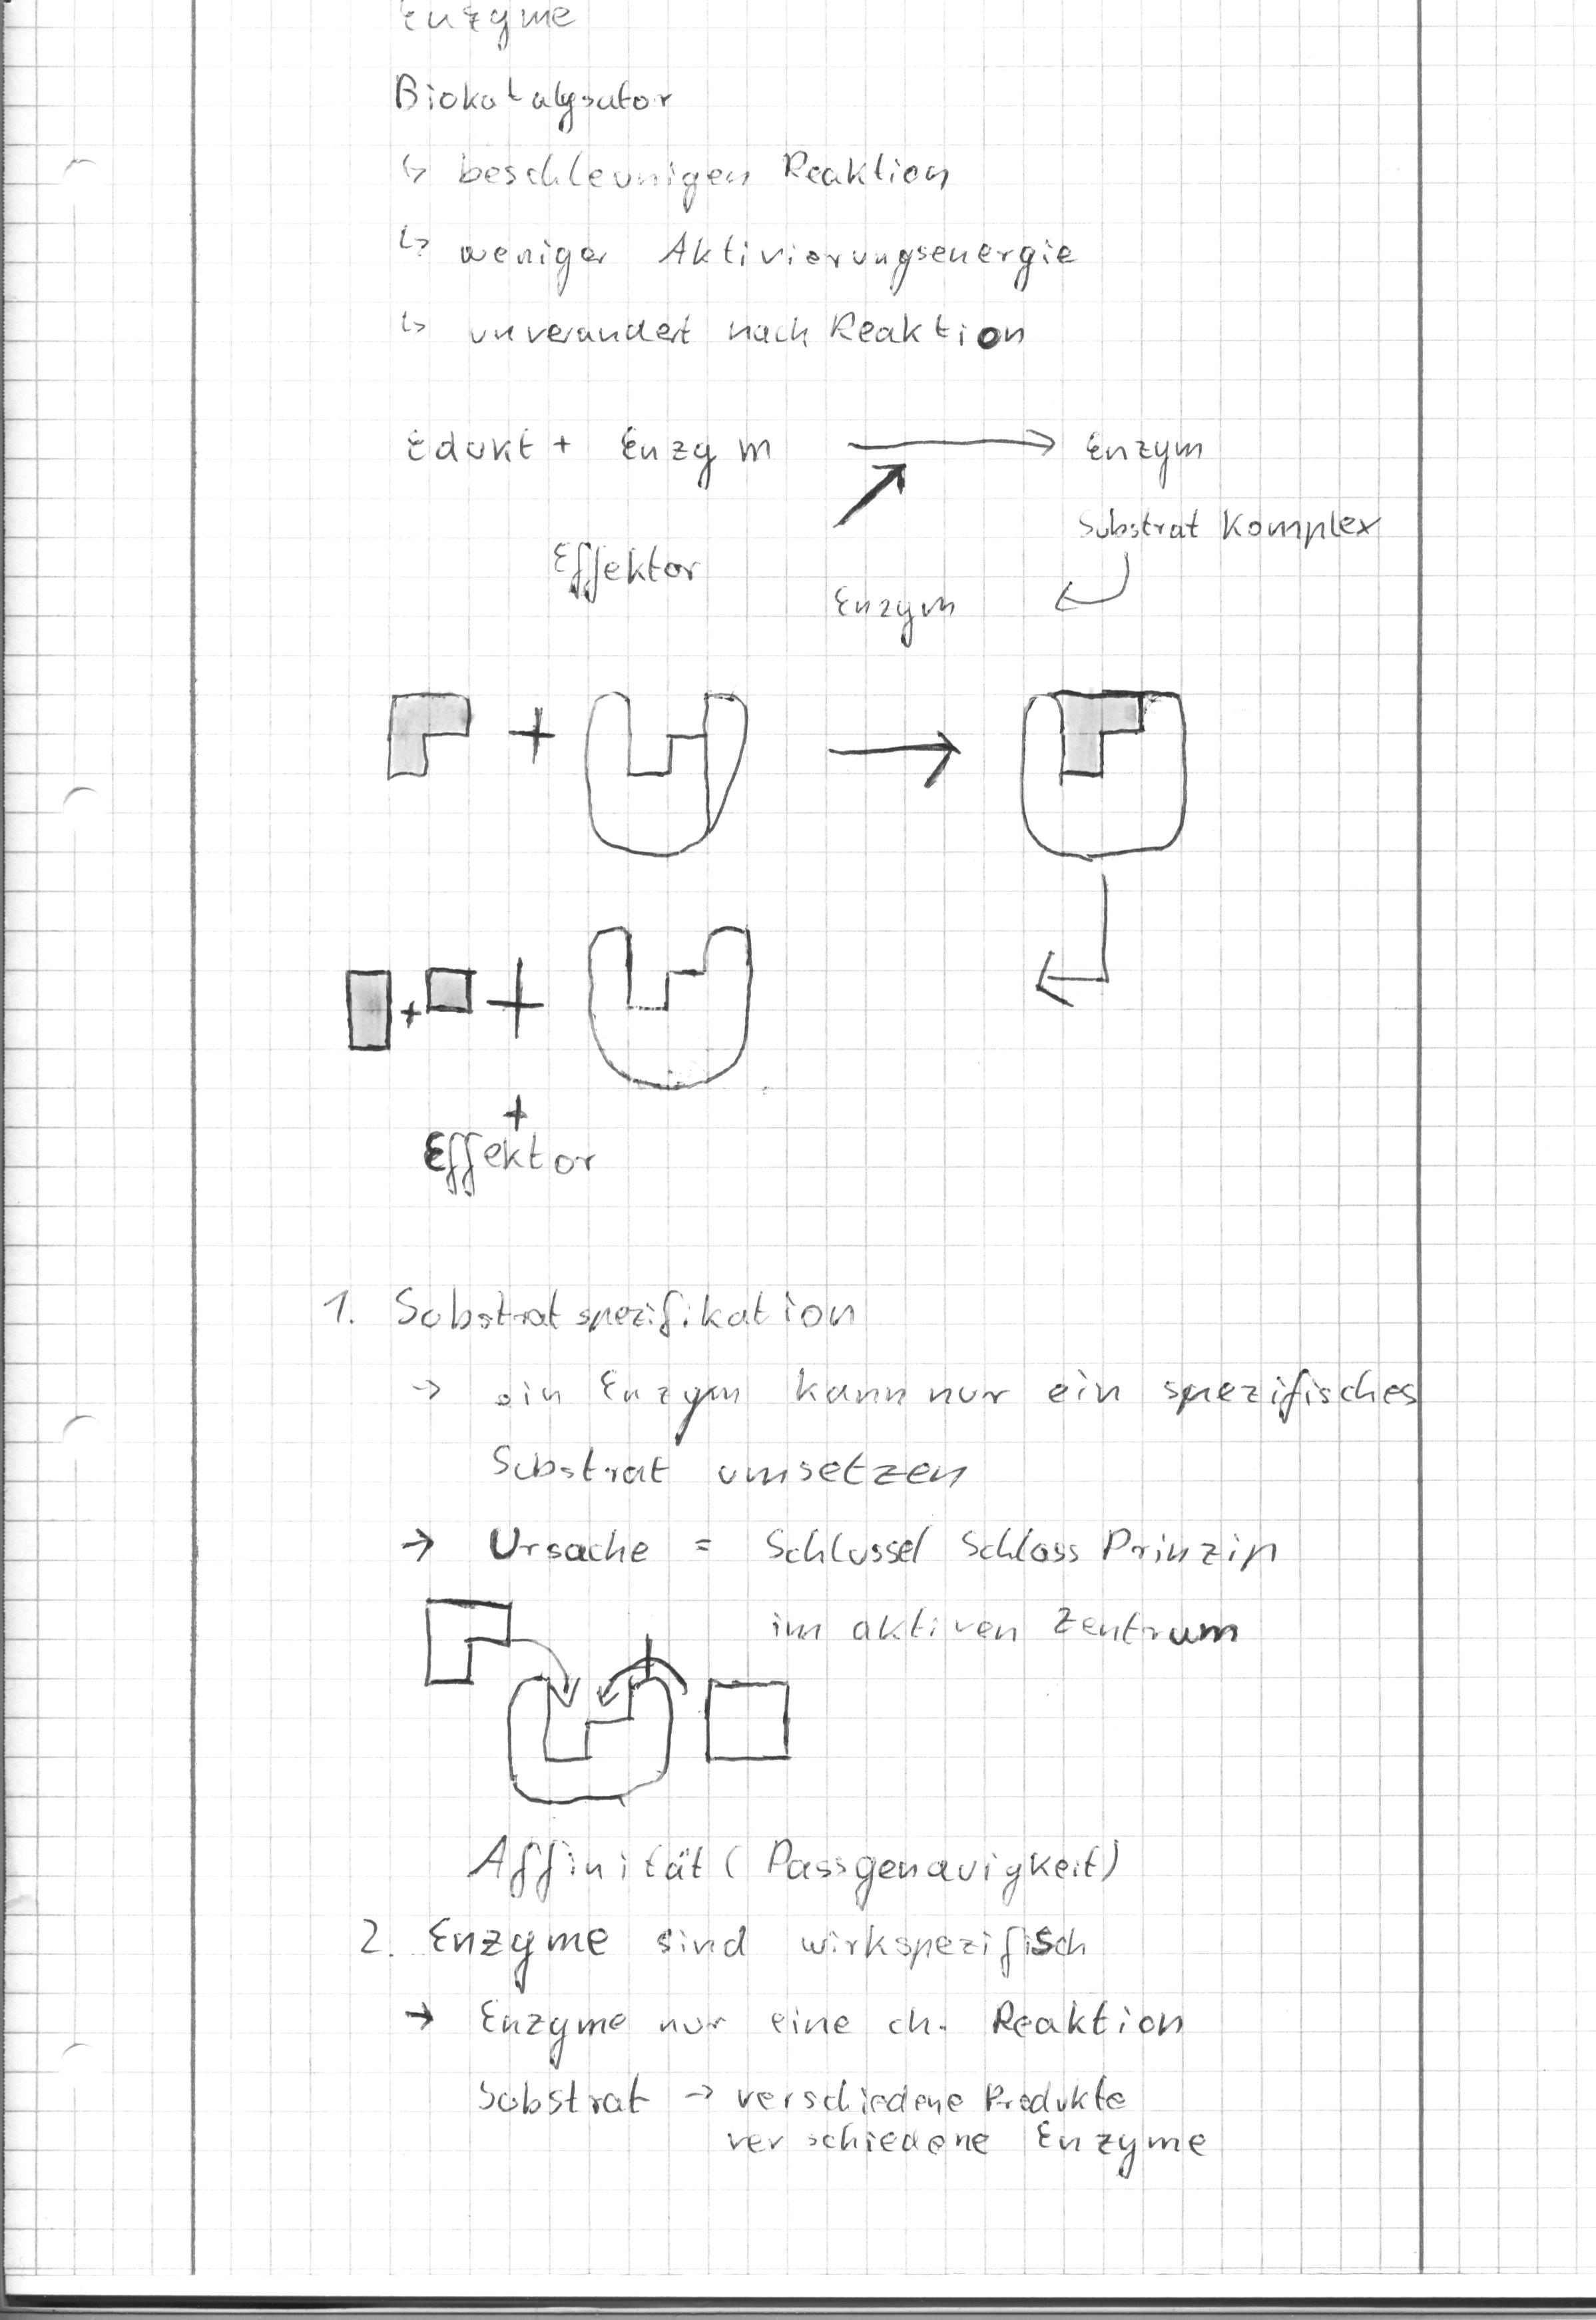word: (337, 1829, 1221, 2198), (312, 1275, 1436, 1497), (381, 60, 1090, 360), (388, 1506, 1287, 1586), (1068, 417, 1390, 557), (381, 405, 786, 504), (744, 1594, 1257, 1667), (413, 1081, 614, 1216), (530, 519, 728, 623), (812, 558, 975, 667), (380, 0, 583, 55)
